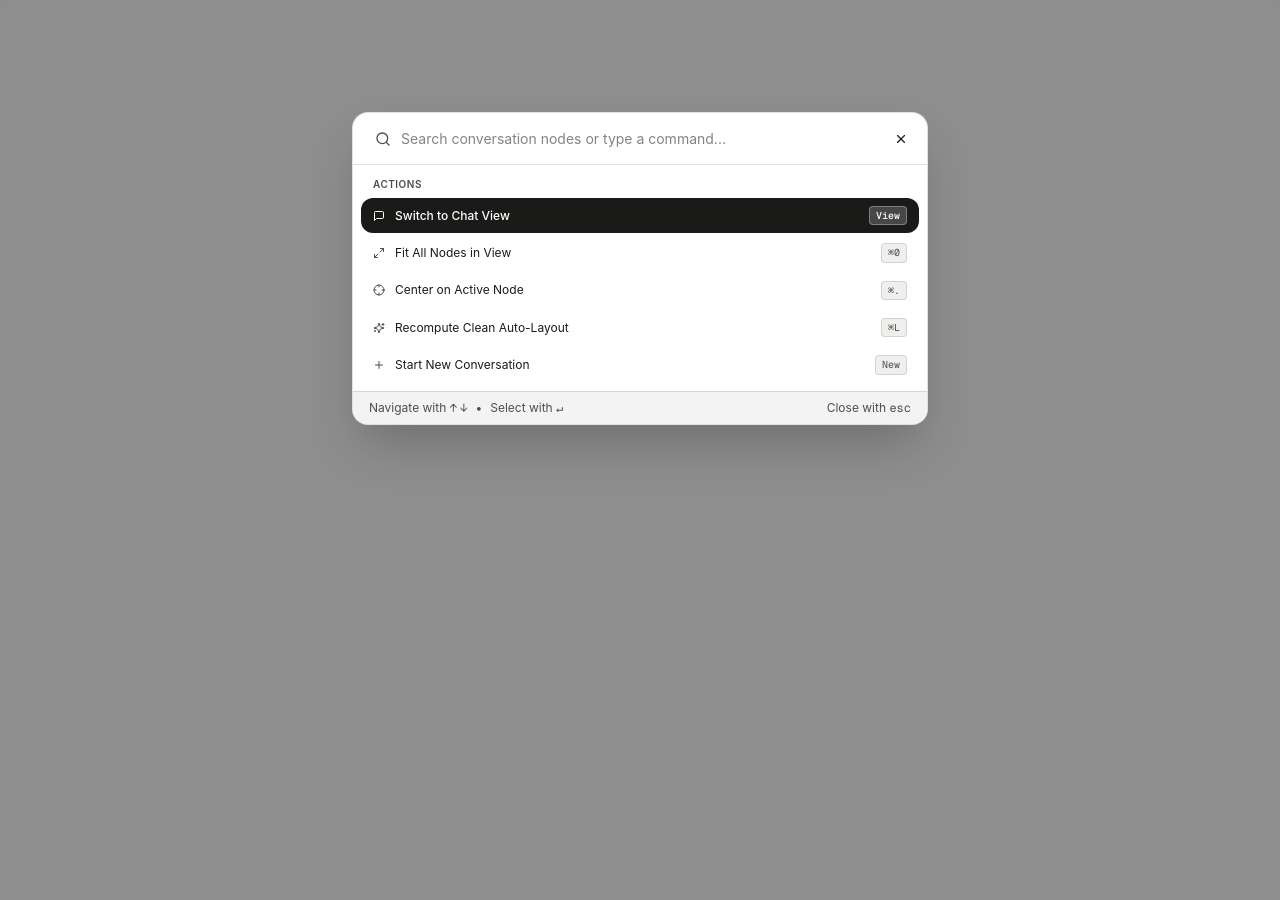
Test: CommandPalette inventory-backed search (LSI-041) › renders an empty state when the workspace has no matches
Type "nonexistent-topic" into the field with placeholder "Search conversation nodes or type a command..." at coordinates (622, 138), box [365,118,879,158]
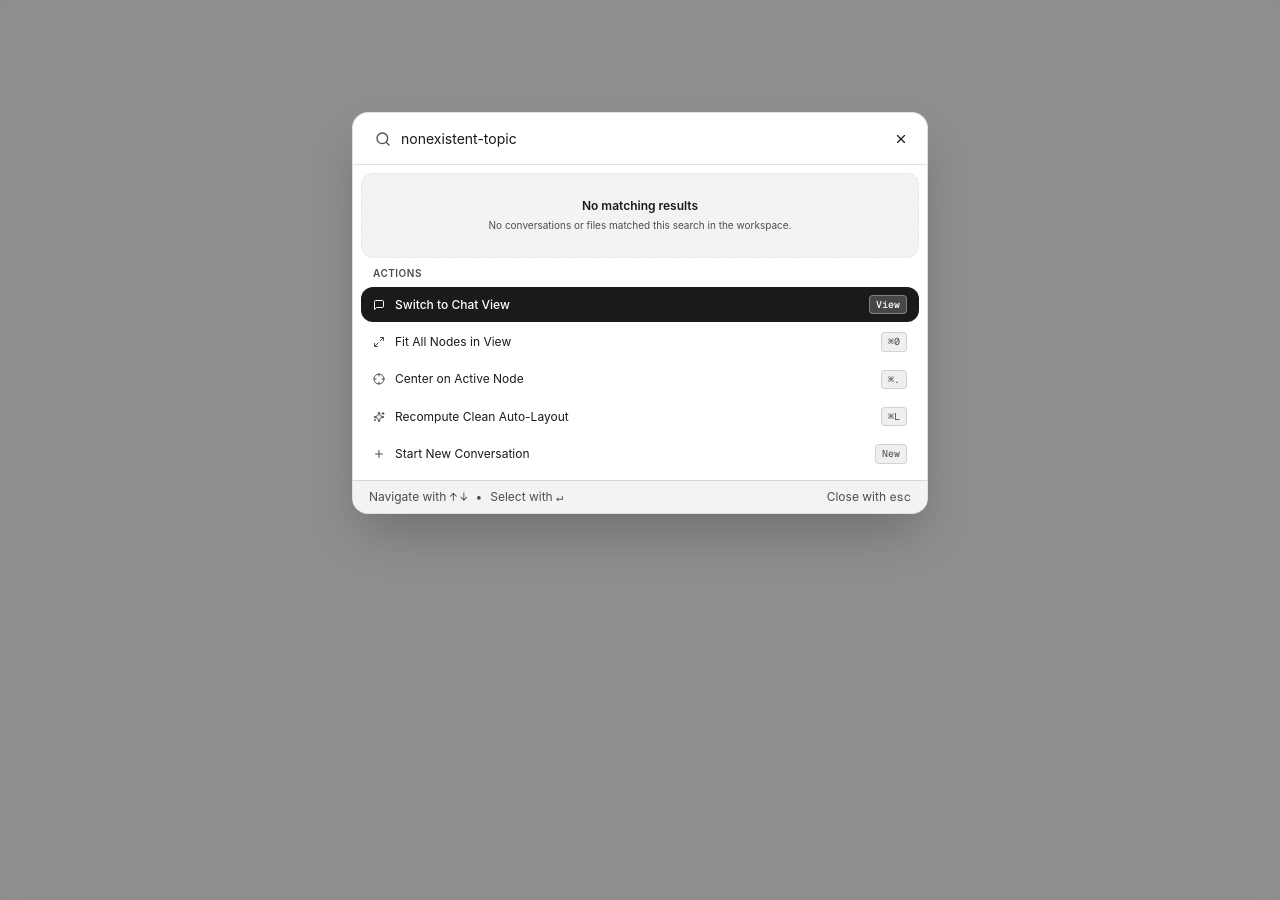
Check: the text "No matching results" is shown, box [582,198,698,213]
